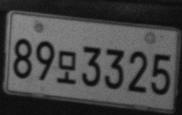2: (127, 50, 147, 93)
3: (80, 46, 101, 87), (104, 48, 124, 90)
5: (150, 53, 172, 95)
8: (12, 37, 32, 78)
9: (35, 40, 55, 81)
모: (56, 49, 77, 84)
